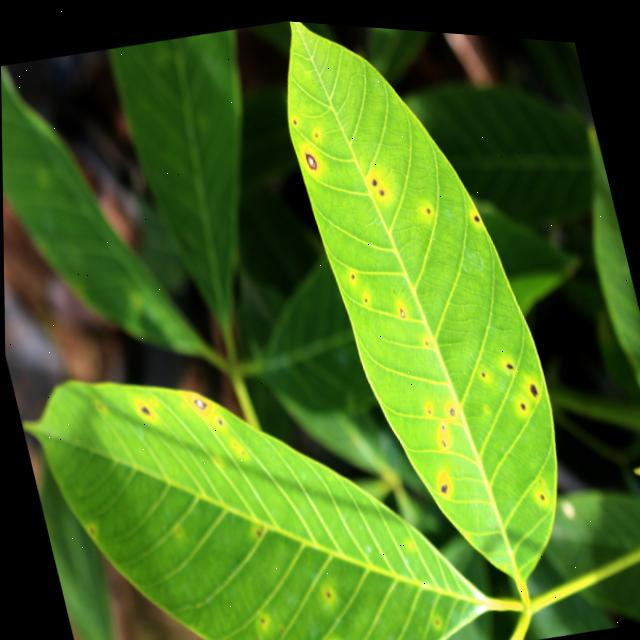Colletotrichum: (303, 146, 318, 166), (193, 394, 205, 409), (448, 399, 454, 409), (398, 303, 404, 312)
